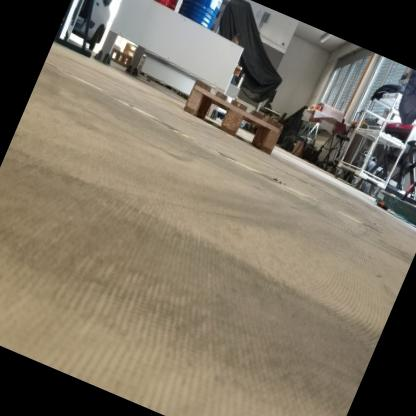BoxFace: (180, 75, 285, 157)
